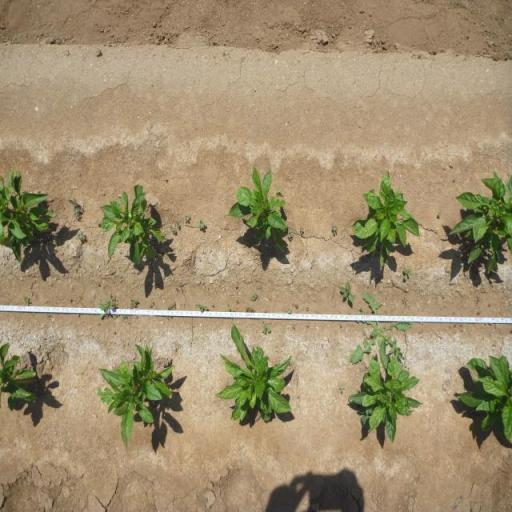plant: (96, 340, 179, 451), (211, 322, 297, 429), (447, 167, 512, 278), (350, 165, 422, 264), (364, 337, 427, 450), (98, 183, 170, 267), (225, 162, 290, 254), (0, 162, 56, 265), (454, 350, 512, 449), (0, 338, 41, 416)
weed: (348, 289, 415, 366), (338, 278, 354, 306), (97, 300, 113, 318), (68, 198, 82, 218), (112, 293, 120, 309), (403, 267, 412, 281), (197, 303, 209, 313), (261, 323, 271, 335), (164, 302, 178, 310), (76, 230, 86, 241), (197, 219, 207, 229), (131, 298, 139, 310), (23, 296, 32, 306), (249, 292, 259, 301), (332, 224, 338, 236), (287, 231, 294, 241), (184, 214, 192, 222), (176, 220, 182, 230), (245, 306, 255, 312), (226, 306, 234, 313), (338, 387, 345, 395), (170, 226, 176, 234), (294, 303, 300, 310), (287, 308, 293, 314), (300, 226, 304, 234), (436, 212, 442, 216)
